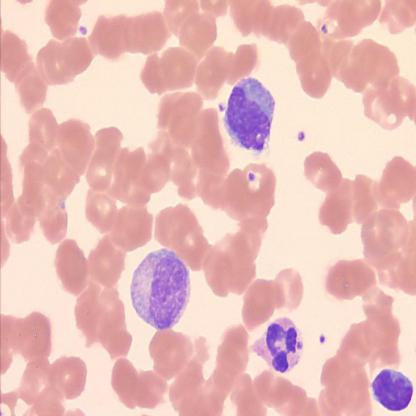Myelocyte: (131, 246, 193, 329), (220, 75, 280, 152)
